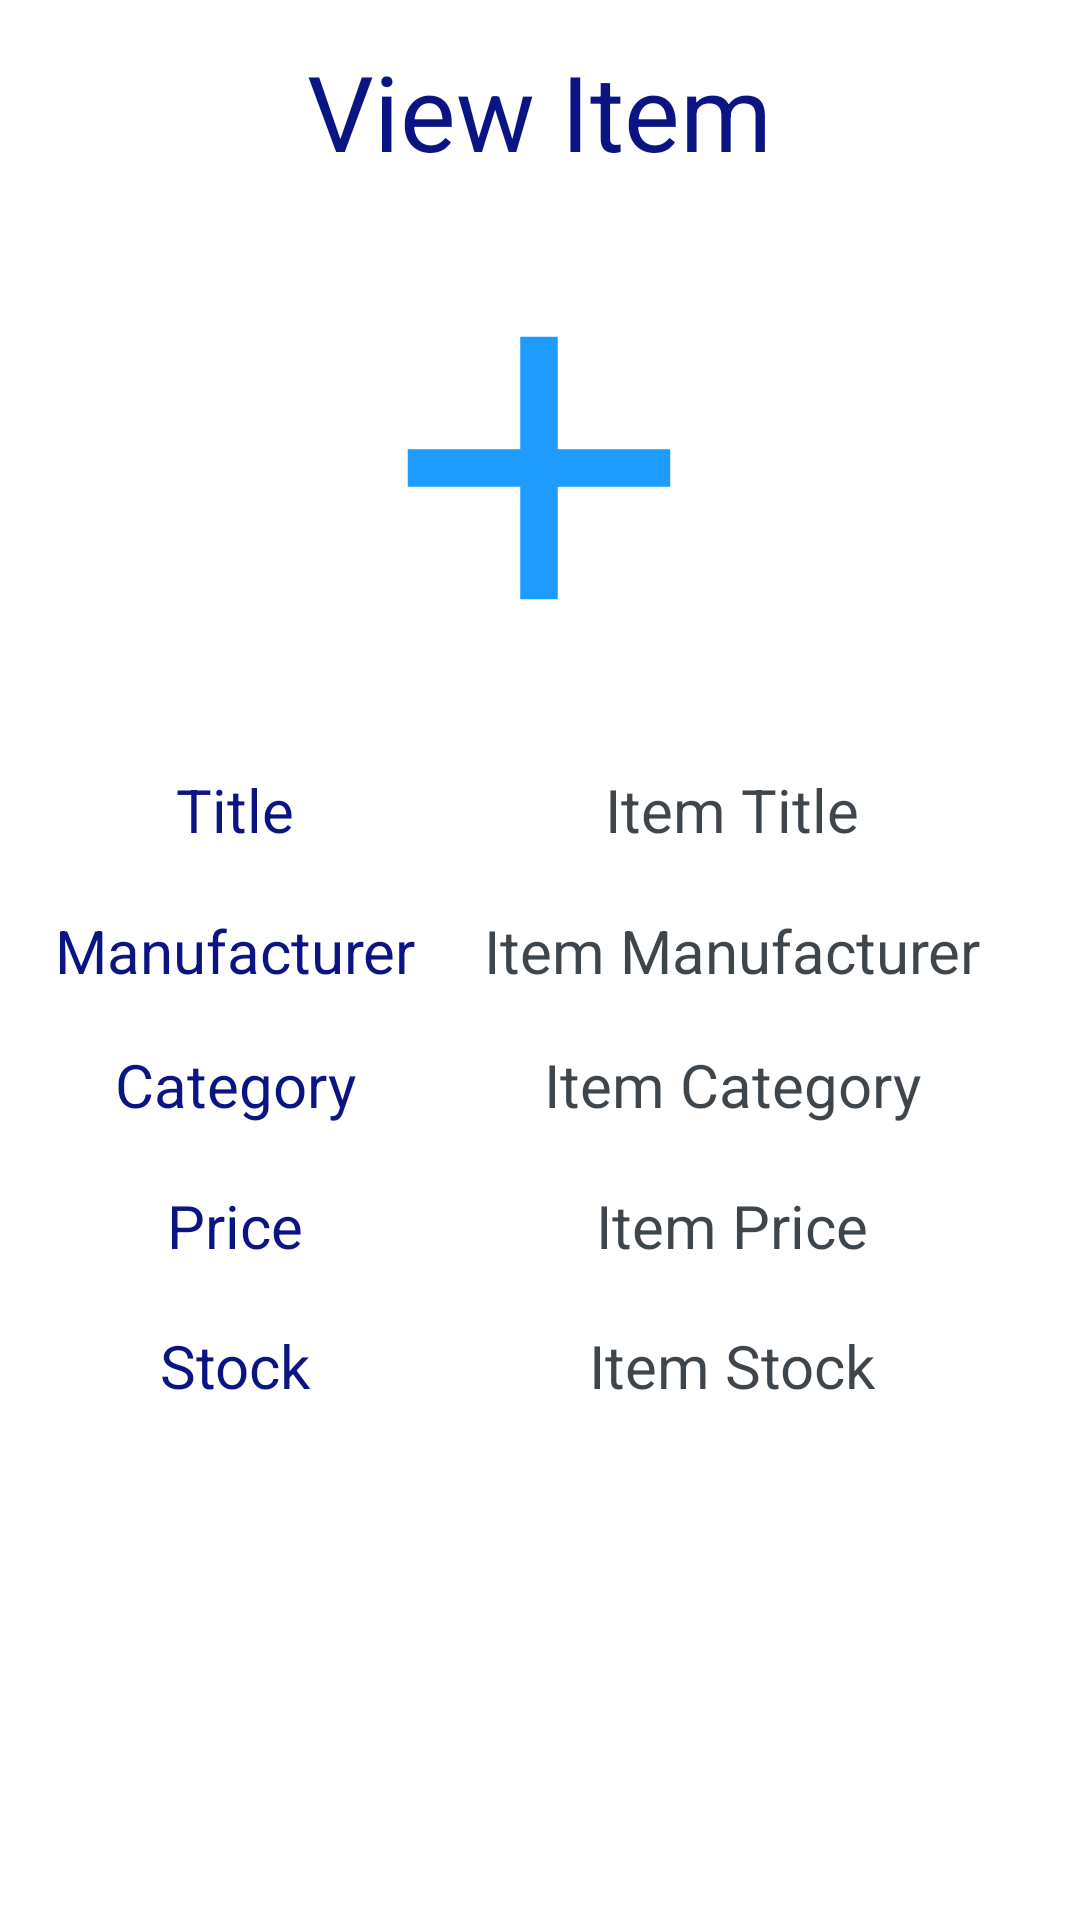

Where icons sit on this 1080x1920 app screen, as (x1,y1,x2,y2):
add: (407,336,671,600)
